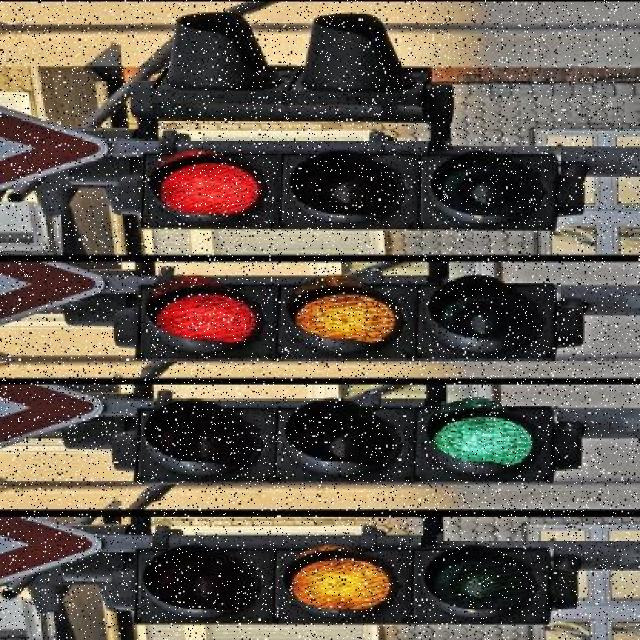green-light: (136, 393, 588, 492)
red-light: (136, 139, 612, 246)
red-yellow-light: (135, 272, 632, 379)
yellow-light: (118, 533, 593, 623)
